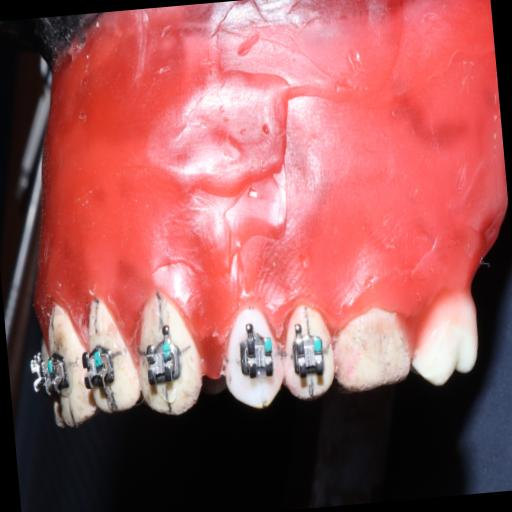correct_brace: (221, 304, 285, 416)
